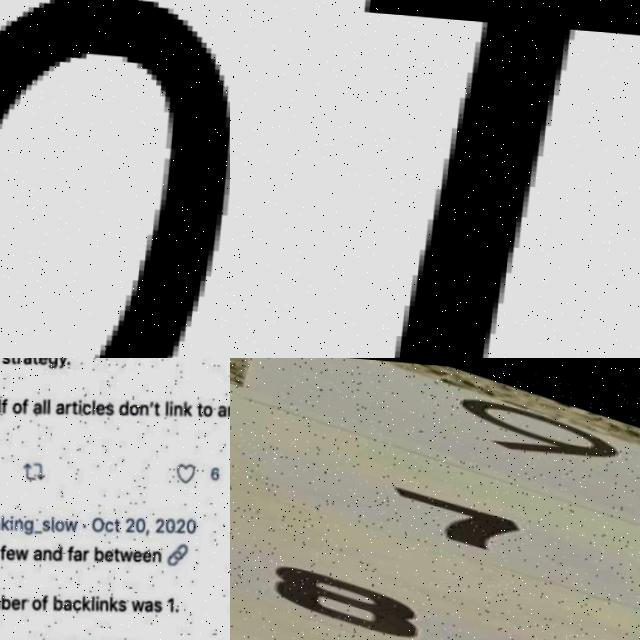0: (0, 0, 230, 358), (135, 513, 146, 531), (165, 514, 176, 531), (185, 514, 196, 531)
1: (166, 594, 176, 609)
2: (154, 514, 167, 531), (124, 514, 135, 531), (176, 514, 187, 531)
6: (210, 463, 221, 478)
7: (331, 464, 597, 581)
8: (242, 549, 490, 640)
9: (423, 379, 640, 491)
T: (316, 0, 640, 358)
